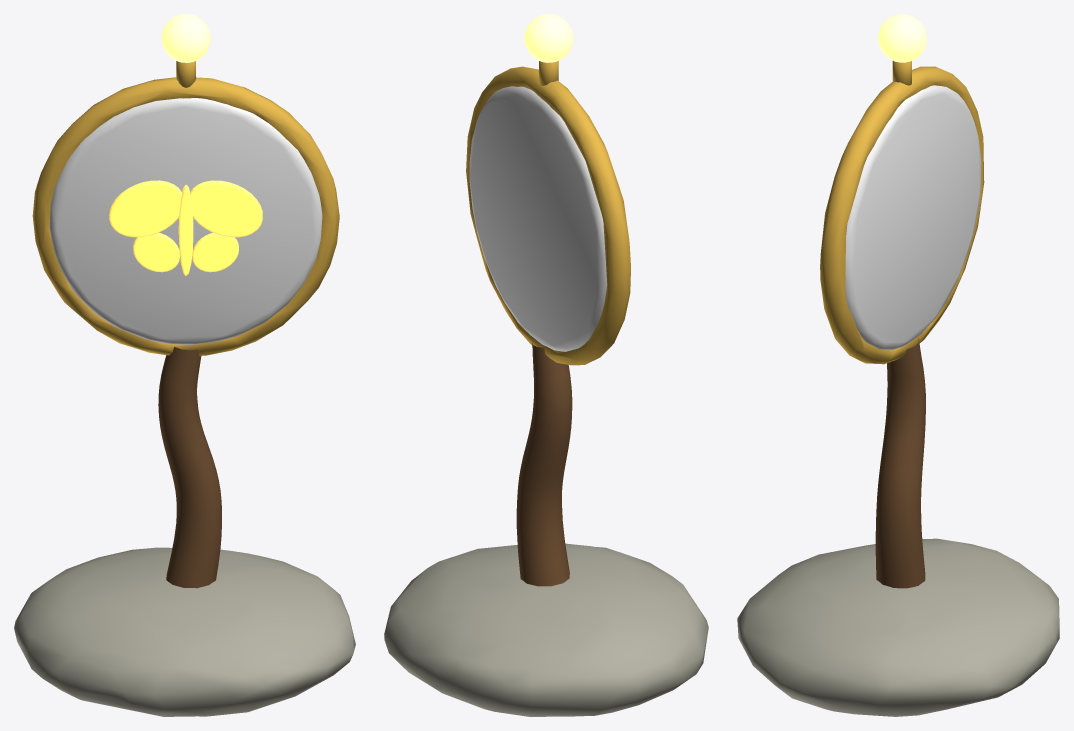
The model's file is Post.glb.
3 views of the same model, side by side, from view 1: azimuth 30°, elevation 25°; view 2: azimuth 150°, elevation 25°; view 3: azimuth 270°, elevation 25° (orthographic).
Visible parts, largest first — view 1: Foot, Cylinder, DiscRim, Pole, WingUp-1, WingUp1, Firefly, WingLo1, WingLo-1, Body; view 2: Foot, Cylinder, DiscRim, Pole, Firefly; view 3: Foot, Cylinder, DiscRim, Pole, Firefly.
Boxes of the visible parts, <box> form: Foot: <box>14,547,355,716</box>; Cylinder: <box>49,98,322,344</box>; DiscRim: <box>32,77,339,355</box>; Pole: <box>158,347,221,588</box>; WingUp-1: <box>109,180,181,237</box>; WingUp1: <box>190,180,262,237</box>; Firefly: <box>161,14,210,62</box>; WingLo1: <box>192,233,238,272</box>; WingLo-1: <box>133,233,179,272</box>; Body: <box>178,185,193,275</box>; Foot: <box>384,543,708,716</box>; Cylinder: <box>469,86,607,351</box>; DiscRim: <box>466,66,630,365</box>; Pole: <box>516,342,572,586</box>; Firefly: <box>524,14,573,62</box>; Foot: <box>737,538,1059,716</box>; Cylinder: <box>845,85,981,350</box>; DiscRim: <box>820,66,984,364</box>; Pole: <box>875,338,925,588</box>; Firefly: <box>878,14,926,62</box>.
Size of the model in its own units: 2.04 by 4.5 by 1.98.
